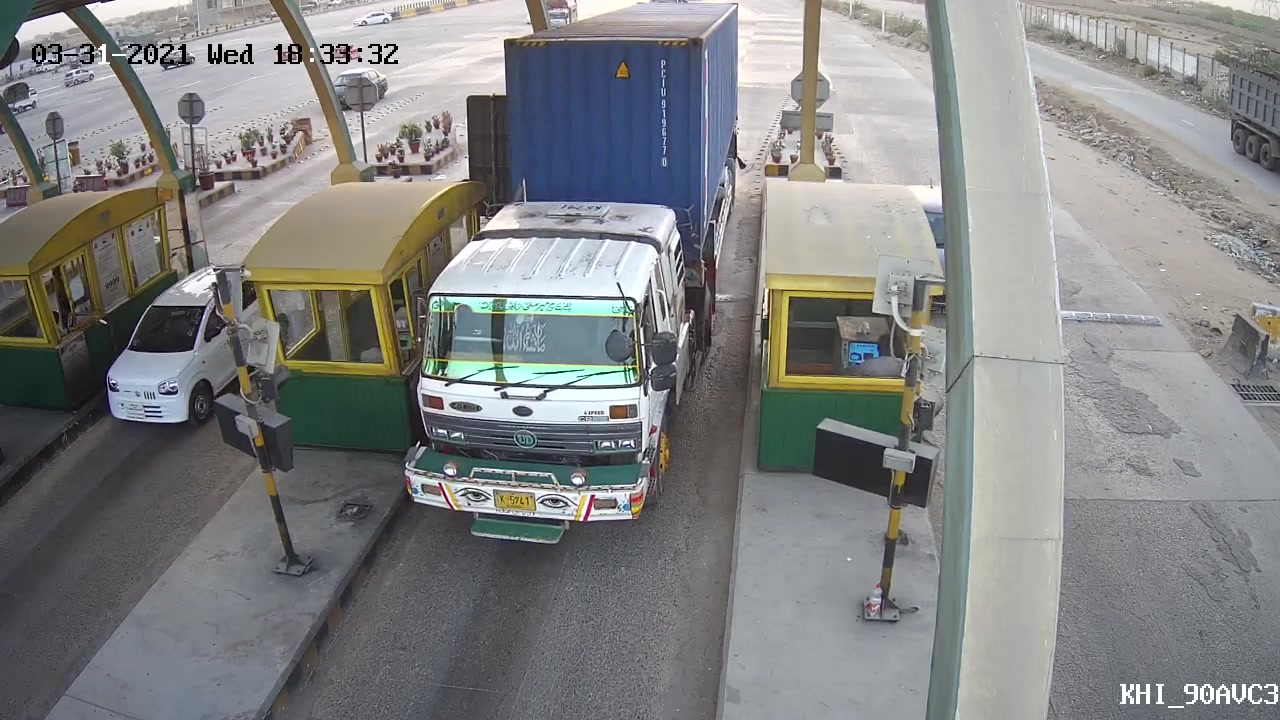F6: (391, 3, 751, 561)
